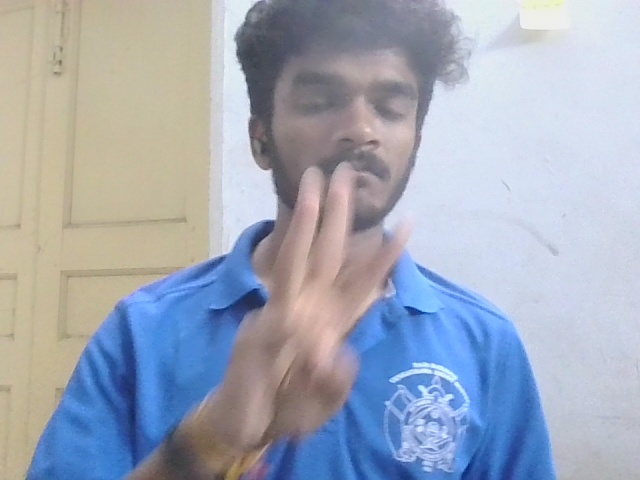water: (209, 157, 425, 447)
